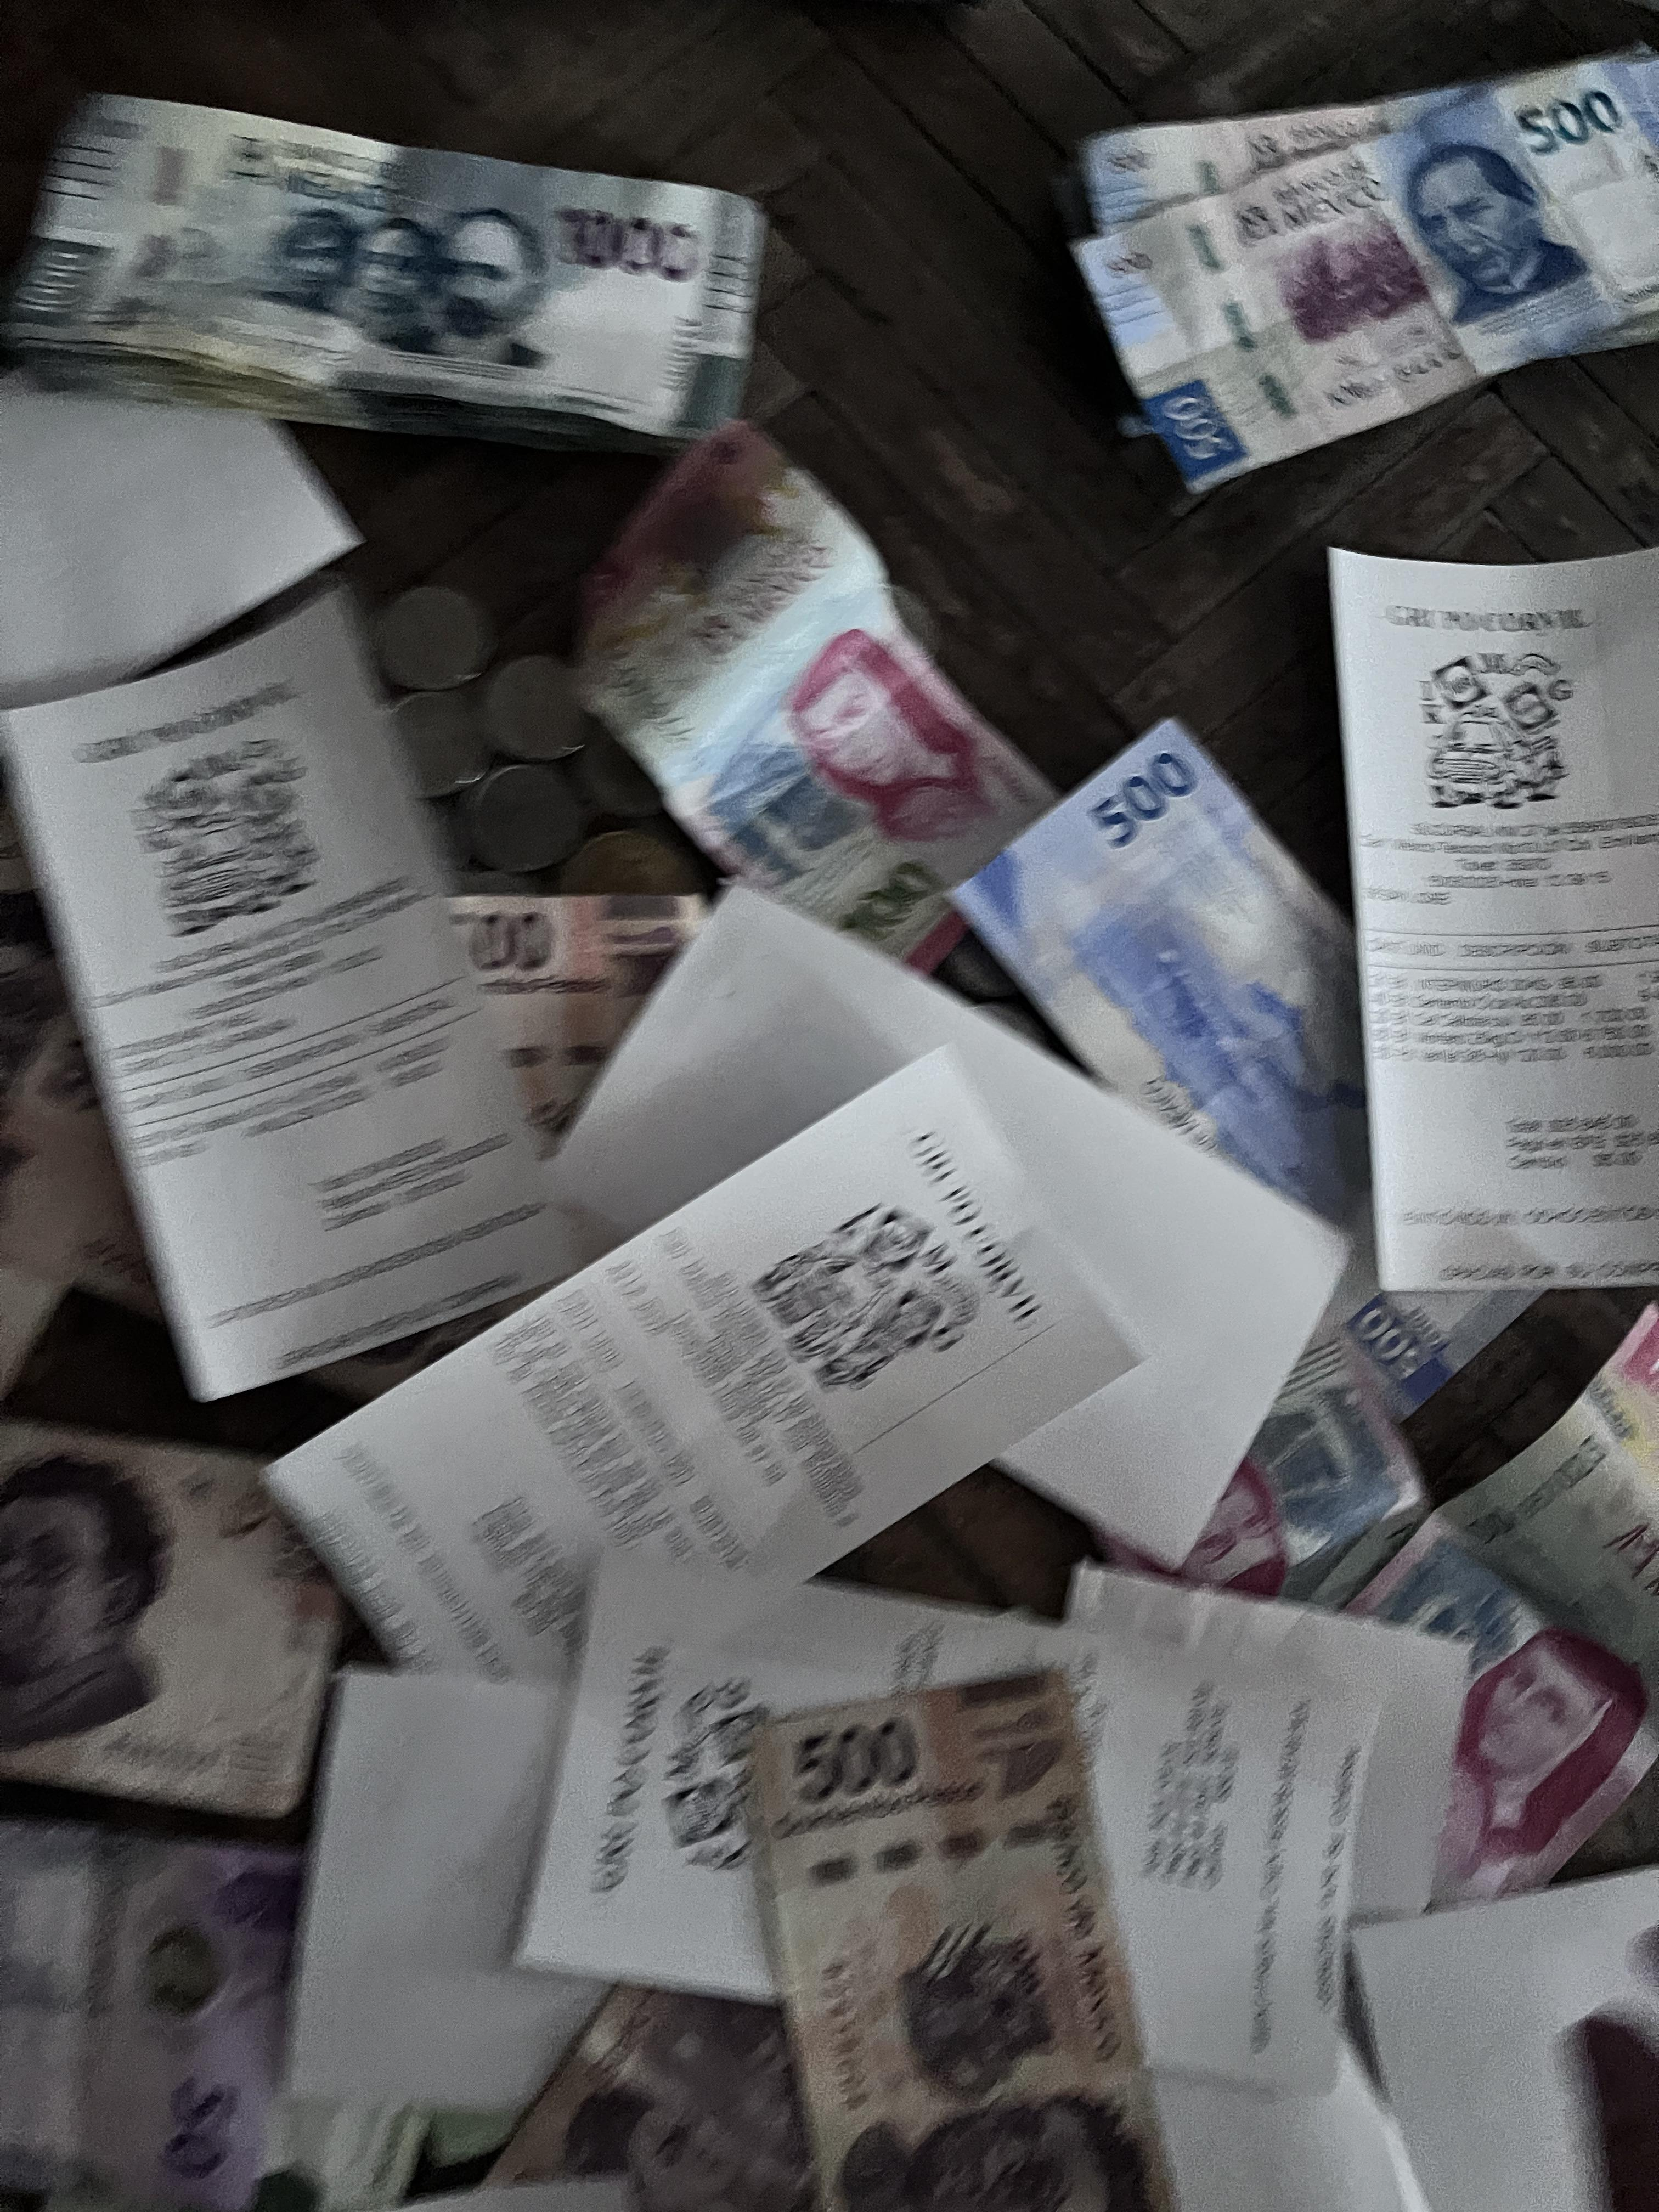100: (565, 404, 1051, 989), (1310, 1289, 1652, 1942), (1150, 1327, 1476, 1625)
1000: (0, 64, 770, 449)
50: (0, 1810, 288, 2210)
500: (737, 1660, 1173, 2212), (0, 1399, 362, 1848), (467, 1928, 892, 2212), (410, 887, 755, 1233), (0, 927, 96, 1437)
500 nuevo: (943, 712, 1556, 1421), (1066, 87, 1659, 488)
